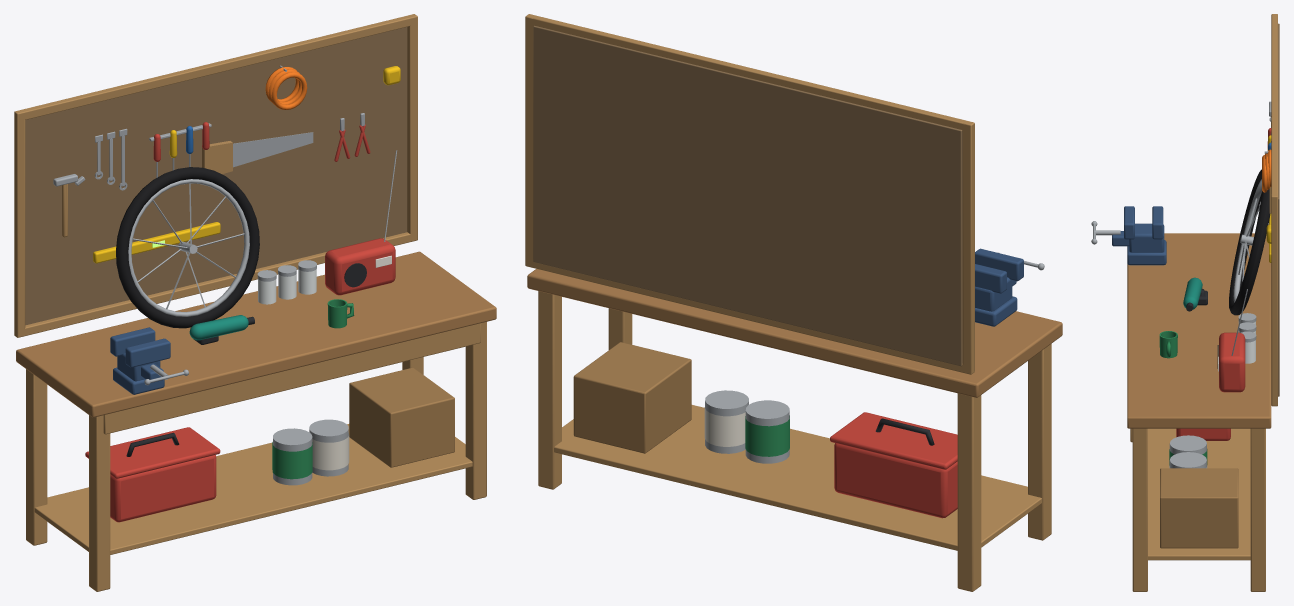
Rendered from workbench.fbx.
The picture shows the model from 3 angles, left to right: view 1: azimuth 30°, elevation 25°; view 2: azimuth 150°, elevation 25°; view 3: azimuth 270°, elevation 25°; orthographic projection. The views are drawn at different scales.
Visible parts, largest first — view 1: workbench; view 2: workbench; view 3: workbench.
Part boxes in pixels (x1,y1,x2,y2): workbench: (14, 14, 496, 591); workbench: (525, 14, 1062, 591); workbench: (1091, 14, 1279, 591).
Size of the model in its own units: 2 by 2.01 by 0.8615.
